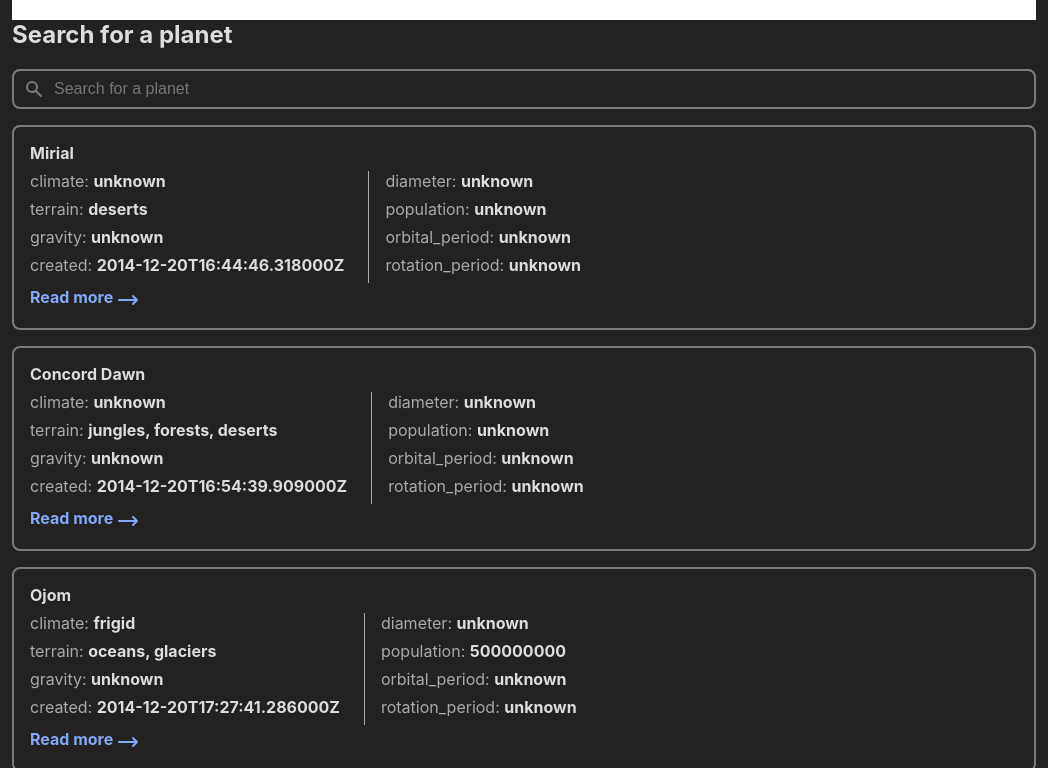
Test: it finds a planet
This screenshot has width=1048, height=768.
Step 1. Type "Mirial" into the search field named "search-input" → (524,89), box [12,69,1036,109]
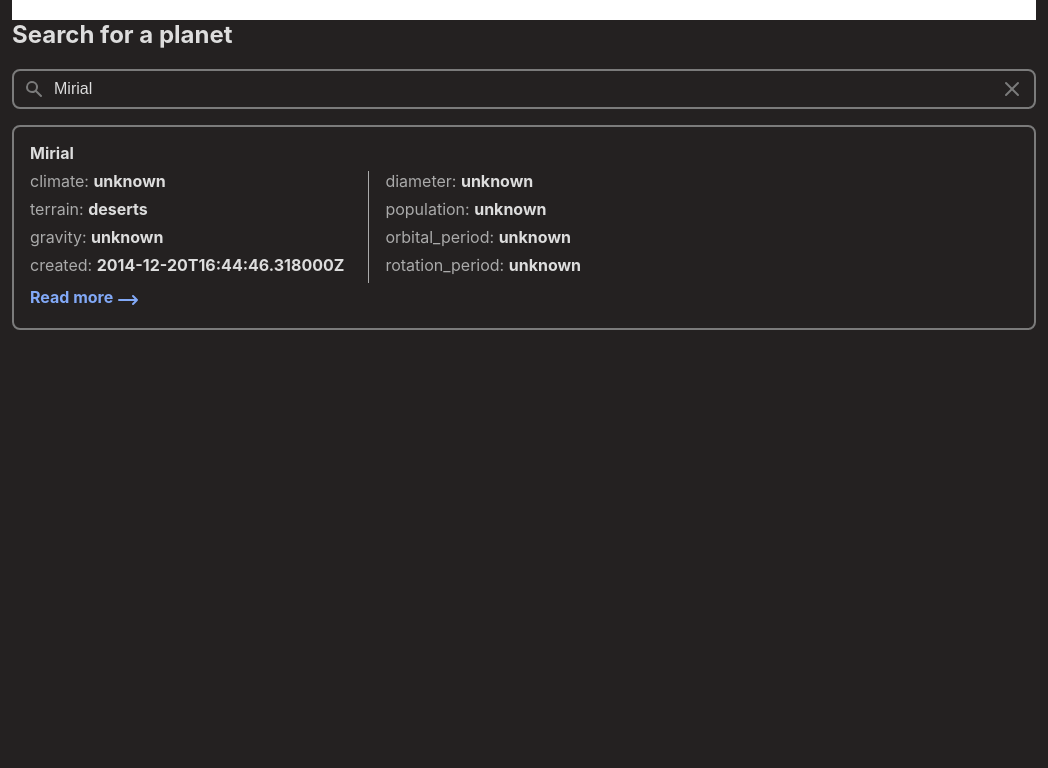
Check: the number of list items with test id "planet-item" is 1, box [12,125,1036,330]
